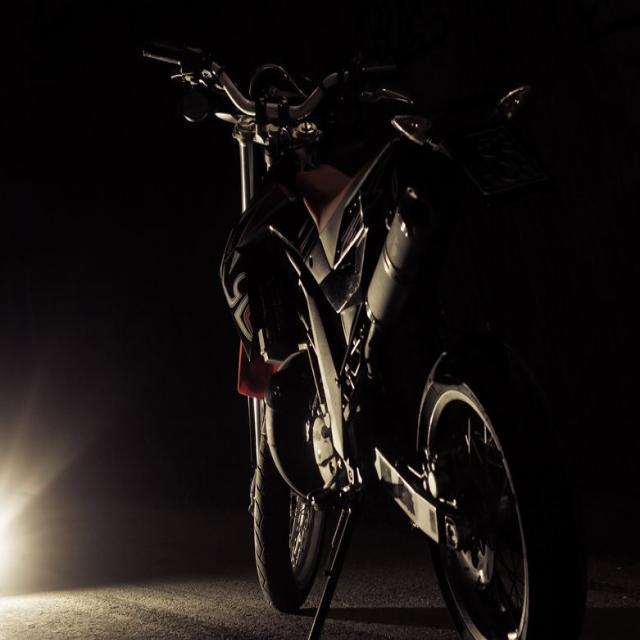Motorbike: (135, 32, 563, 640)
